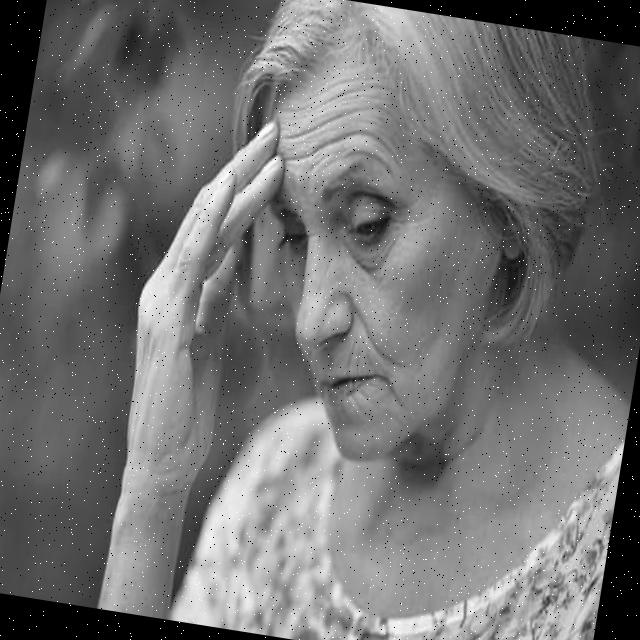Sadness: (215, 67, 502, 476)
